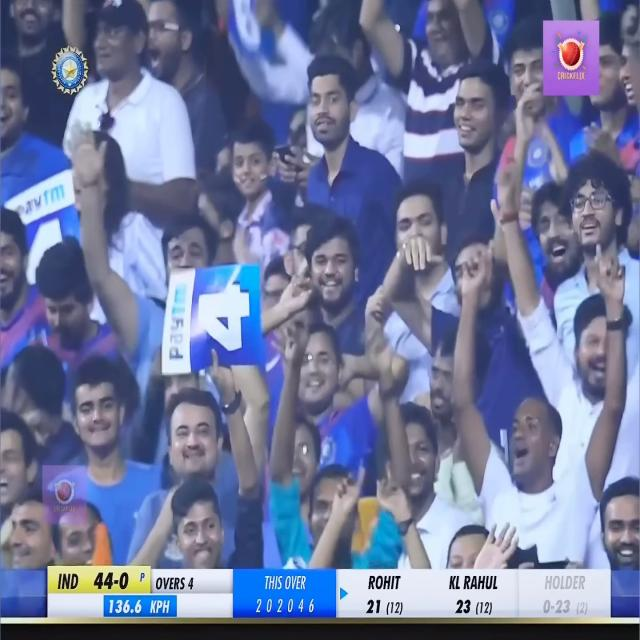fully_visible: (155, 266, 197, 396), (2, 175, 85, 226)
